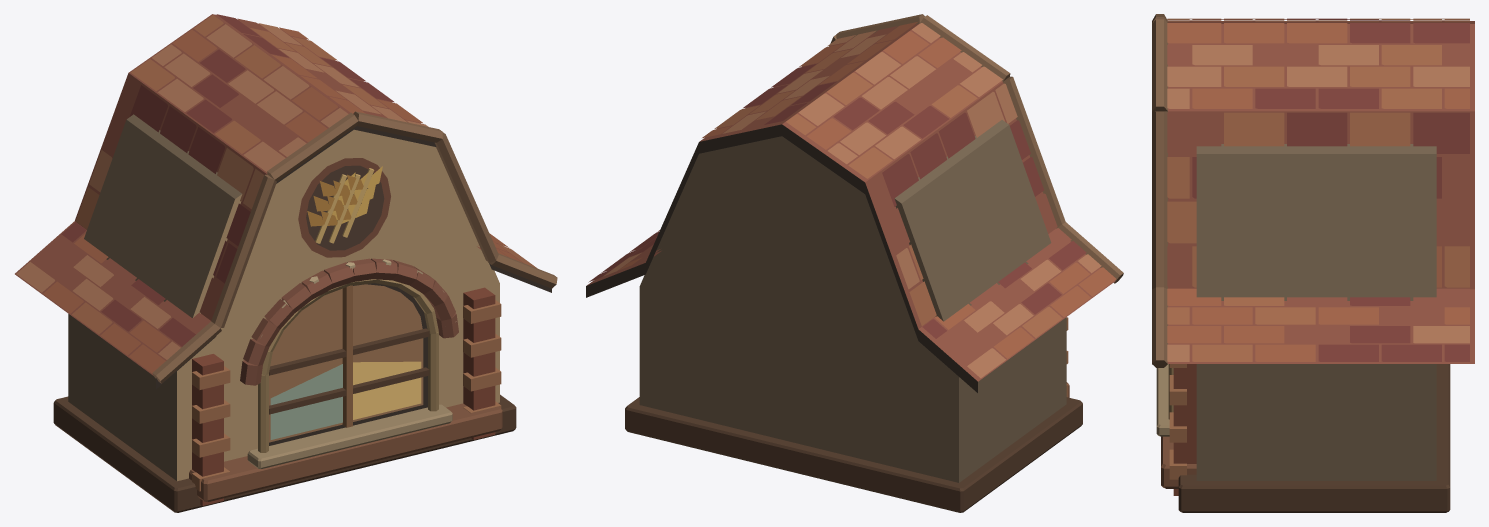
File: gable_bakehouse.glb
The picture shows the model from 3 angles, left to right: view 1: azimuth 30°, elevation 25°; view 2: azimuth 150°, elevation 25°; view 3: azimuth 270°, elevation 25°; orthographic projection. The views are drawn at different scales.
Parts seen in each view (by area): view 1: gable_bakehouse; view 2: gable_bakehouse; view 3: gable_bakehouse.
Part boxes in pixels (x1,y1,x2,y2): gable_bakehouse: (15, 14, 557, 512); gable_bakehouse: (586, 14, 1123, 512); gable_bakehouse: (1152, 14, 1474, 512).
Bounding box in the file's own units: 1.87 × 1.62 × 1.18.
